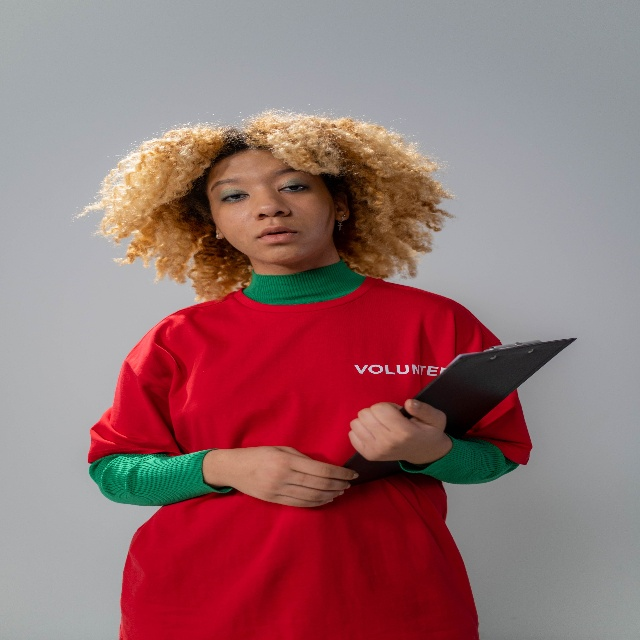Sin_guantes: (235, 444, 356, 505), (343, 393, 448, 463)
